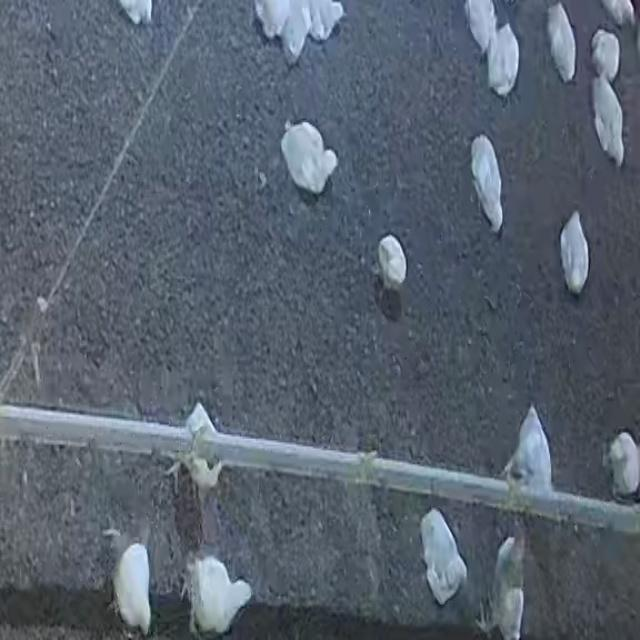chicken: (177, 553, 256, 637), (480, 535, 531, 640), (280, 117, 342, 201), (420, 508, 468, 606), (111, 541, 153, 638), (469, 131, 504, 236), (556, 208, 592, 296), (591, 76, 625, 166), (370, 230, 411, 303), (546, 0, 578, 80), (487, 22, 520, 97), (590, 28, 620, 79)
